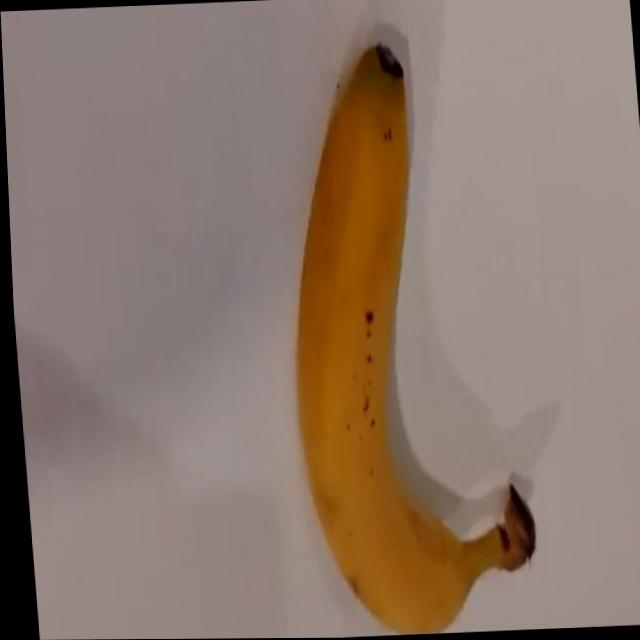Banana: (267, 38, 538, 638)
